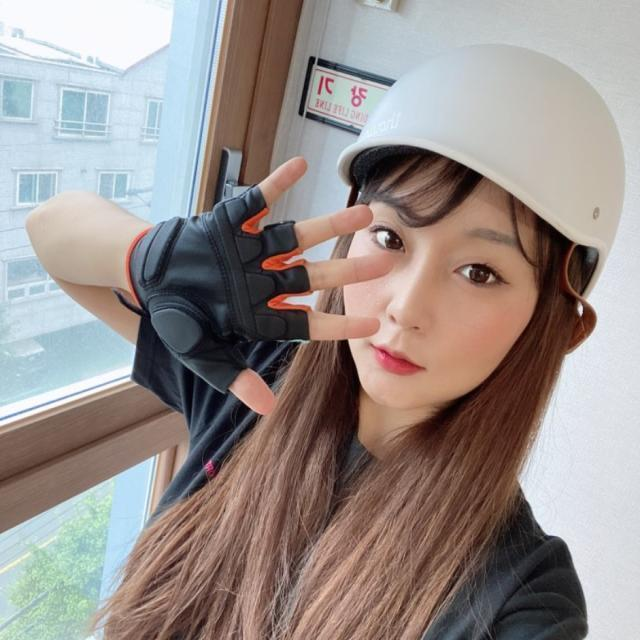helmet: (328, 40, 628, 410)
